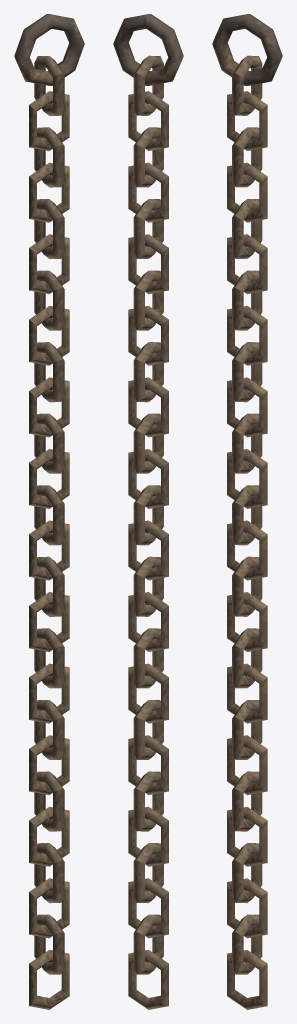
3 renders of one model, left to right at view 1: azimuth 30°, elevation 25°; view 2: azimuth 150°, elevation 25°; view 3: azimuth 330°, elevation 25°, orthographic.
Visible parts, largest first — view 1: SM_DR_CeilingChain_Str_4m_LOD0; view 2: SM_DR_CeilingChain_Str_4m_LOD0; view 3: SM_DR_CeilingChain_Str_4m_LOD0.
Part boxes in pixels (x1,y1,x2,y2): SM_DR_CeilingChain_Str_4m_LOD0: (14,14,84,1009); SM_DR_CeilingChain_Str_4m_LOD0: (113,14,183,1009); SM_DR_CeilingChain_Str_4m_LOD0: (212,14,282,1009).
Size of the model in its own units: 0.3157 by 4.36 by 0.1863.
1 material, 1 textured.
